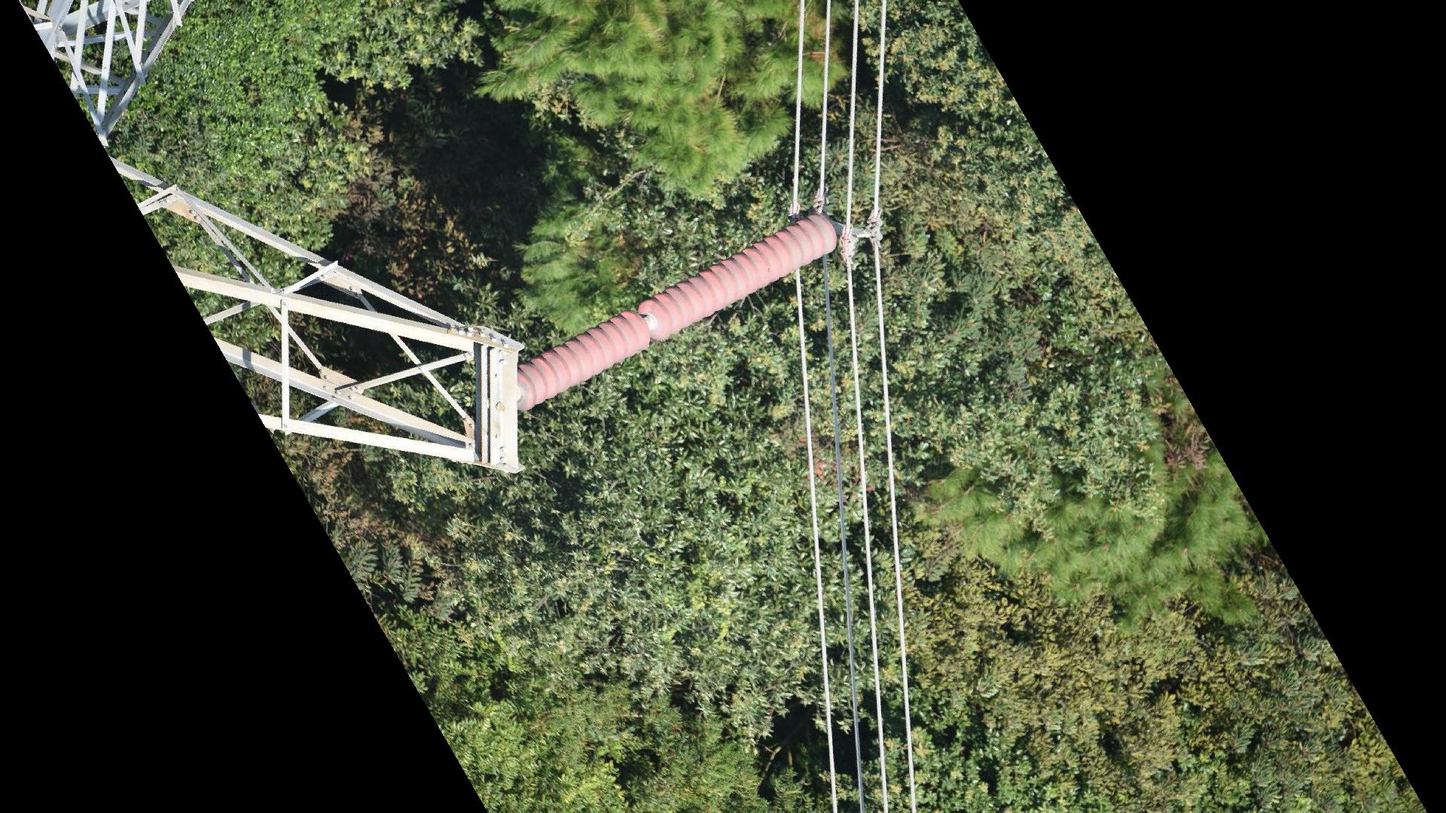insulator: (512, 206, 841, 414)
insulator_stringdrop: (621, 297, 675, 352)
